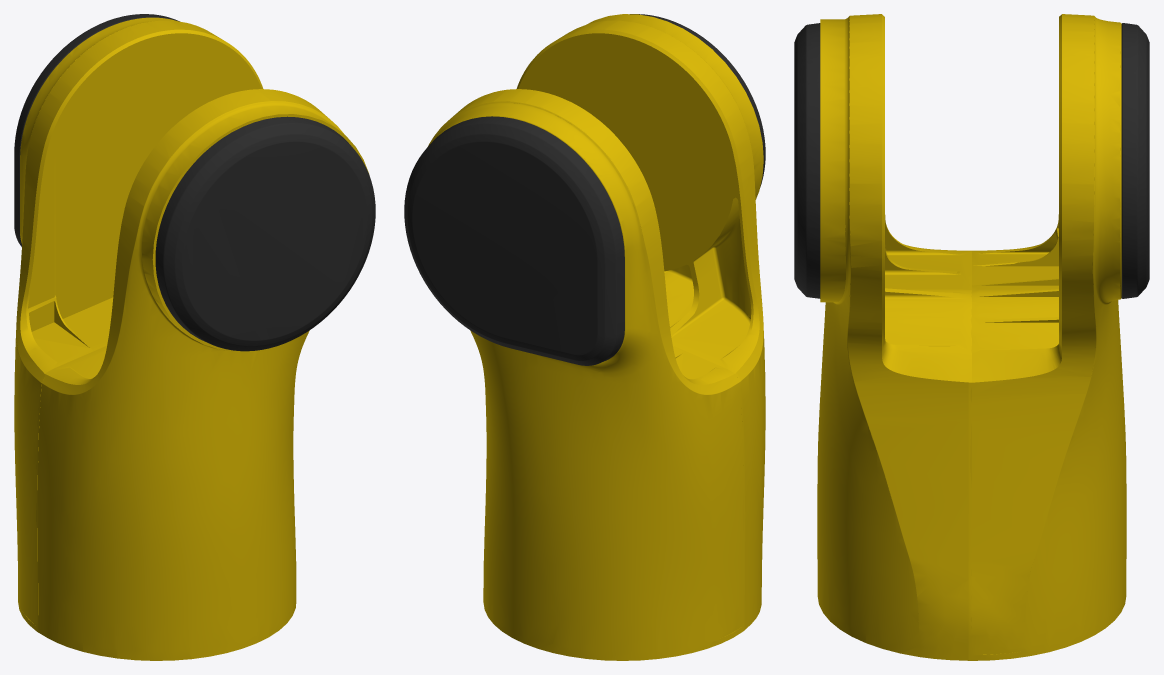
The model's file is elbow_pitch_l_j3_link.glb.
3 views of the same model, side by side, from view 1: azimuth 30°, elevation 25°; view 2: azimuth 150°, elevation 25°; view 3: azimuth 270°, elevation 25° (orthographic). The views are drawn at different scales.
Visible parts, largest first — view 1: Mesh_0.025; view 2: Mesh_0.025; view 3: Mesh_0.025.
Part boxes in pixels (x1=…): Mesh_0.025: x1=14, y1=14, x2=375, y2=660; Mesh_0.025: x1=404, y1=14, x2=765, y2=660; Mesh_0.025: x1=794, y1=14, x2=1149, y2=660.
Size of the model in its own units: 0.1089 by 0.2092 by 0.1104.
